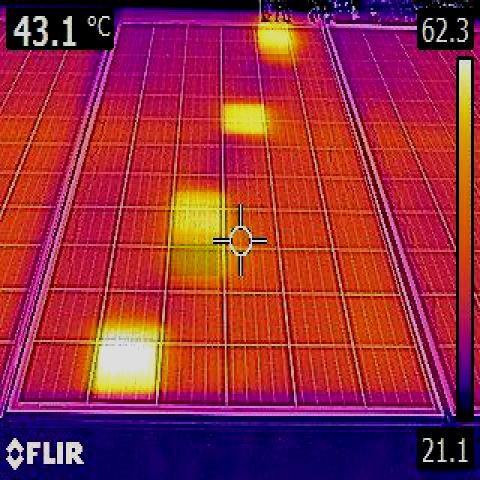fault: (98, 343, 155, 399), (173, 192, 223, 234), (170, 244, 218, 276), (223, 104, 264, 134), (258, 24, 288, 54)
